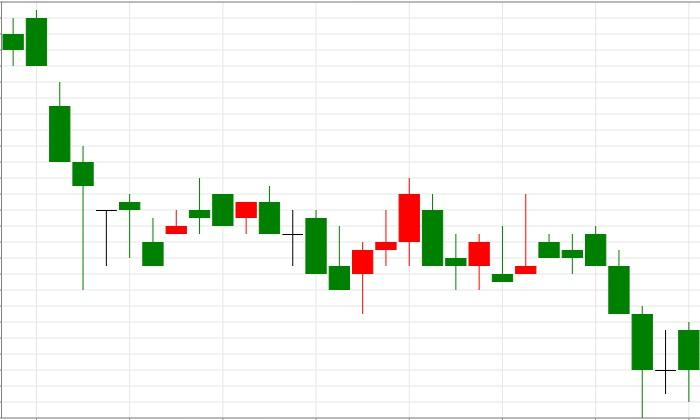bearish_engulfing_fall: (141, 178, 281, 267)
three_black_crows_fall: (491, 194, 654, 417)
three_white_soldiers_rise: (211, 178, 421, 314)
